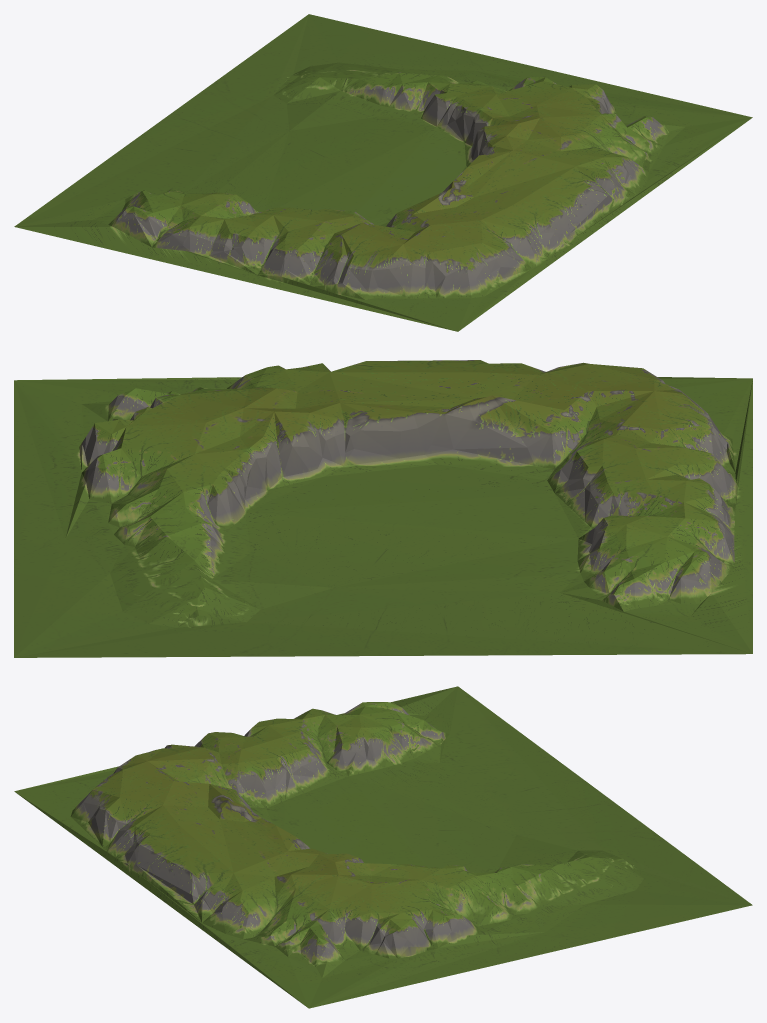
Rendered from bgmtns_mtn_singular_mtnring01_TerrainMesh.fbx.
The picture shows the model from 3 angles, top to bottom: view 1: azimuth 30°, elevation 25°; view 2: azimuth 150°, elevation 25°; view 3: azimuth 270°, elevation 25°; orthographic projection. The views are drawn at different scales.
Parts seen in each view (by area): view 1: mtn_singular_mtnring01:TerrainMesh; view 2: mtn_singular_mtnring01:TerrainMesh; view 3: mtn_singular_mtnring01:TerrainMesh.
Part boxes in pixels (x1,y1,x2,y2): mtn_singular_mtnring01:TerrainMesh: (14,14,752,331); mtn_singular_mtnring01:TerrainMesh: (14,360,752,657); mtn_singular_mtnring01:TerrainMesh: (14,686,752,1008).
Size of the model in its own units: 317 by 21.41 by 305.
Materials: 1 (1 with a texture image).
